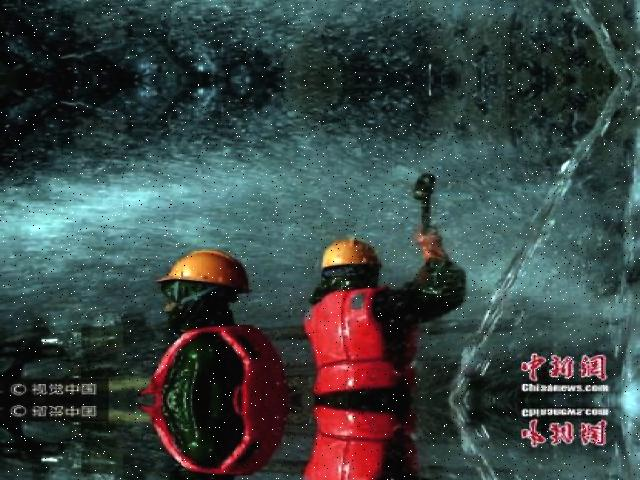Helmet: (146, 244, 253, 299), (314, 232, 384, 276)
